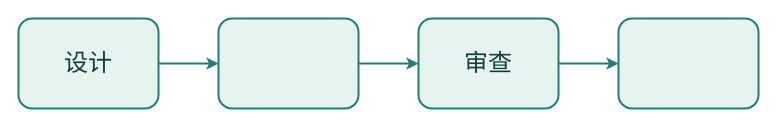
This 776x126 diagram has some shape labels left out. Each missing label, with the box of its shape:
导出: (617, 17, 759, 109)
绘制: (217, 17, 359, 109)
